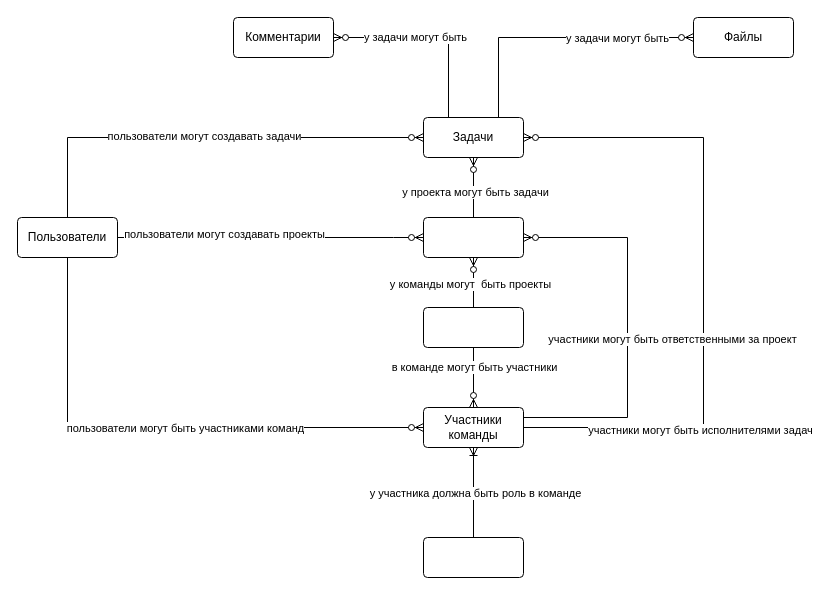
Image size: 830x595. Some labels were removed from this diagram. The centre of each missing label's shape, as x and y in pixels:
Команда: the point at 473,327
Проекты: the point at 473,237
Роли: the point at 473,557
